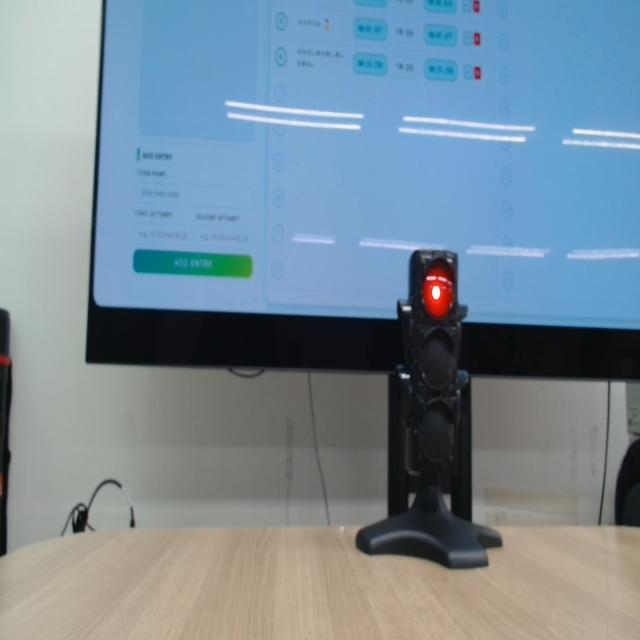red_light: (423, 265, 454, 319)
